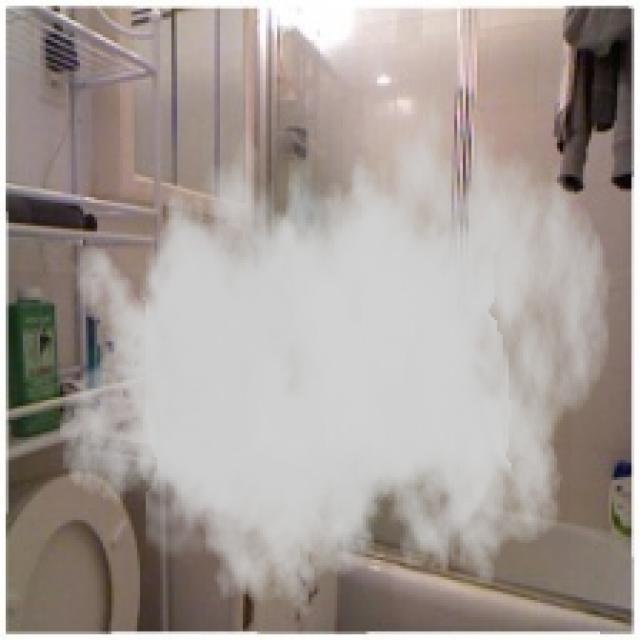smoke: (57, 71, 612, 628)
